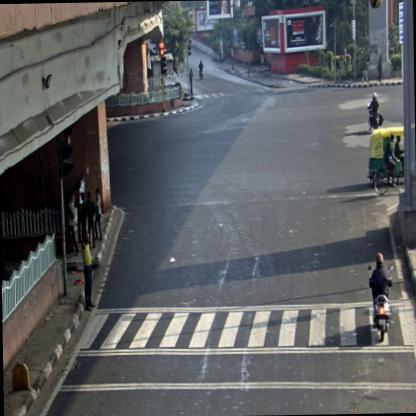motorcycle: (366, 253, 394, 344), (372, 134, 403, 196), (365, 92, 382, 128)
